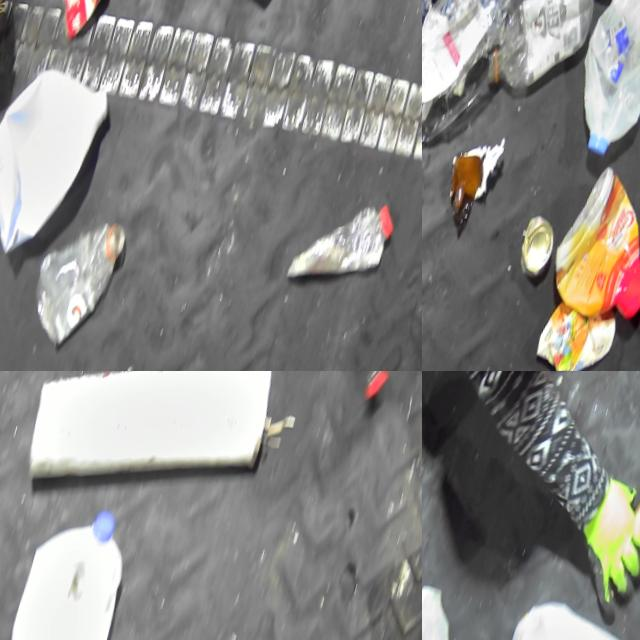can: (513, 214, 562, 285), (46, 0, 121, 46)
milk_jug: (0, 58, 117, 271), (0, 496, 141, 640), (560, 0, 640, 171), (494, 588, 640, 640)
non_white_jug: (541, 160, 640, 335), (493, 371, 619, 386)
plastic_bottle: (20, 204, 134, 359), (285, 185, 402, 304), (481, 0, 604, 106)
